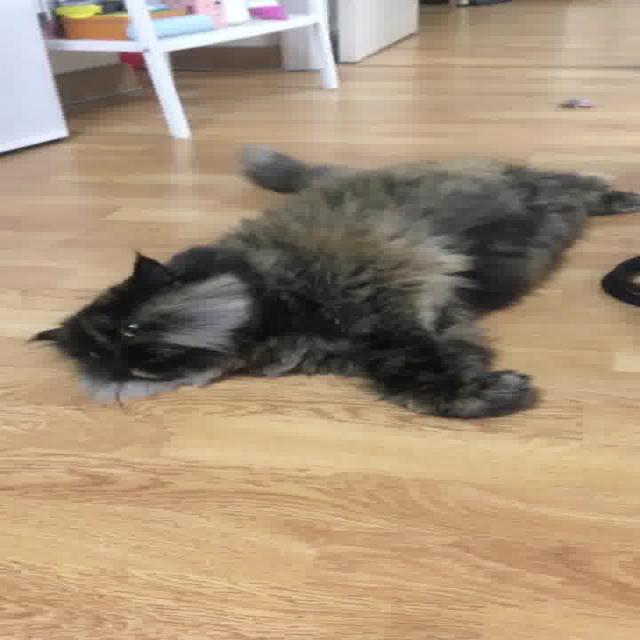cat: (36, 142, 640, 431)
